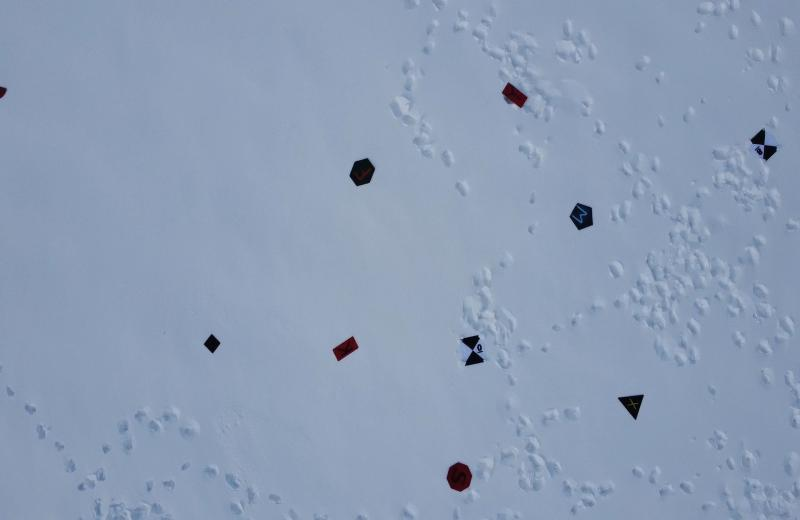Hexagon: (345, 157, 378, 187)
Octagon: (444, 461, 473, 494)
Pentagon: (565, 201, 594, 234)
Rectangle: (330, 331, 364, 363), (502, 80, 526, 112)
Semi Circle: (0, 82, 10, 106)
Square: (202, 334, 221, 354)
Triangle: (615, 390, 645, 428)
